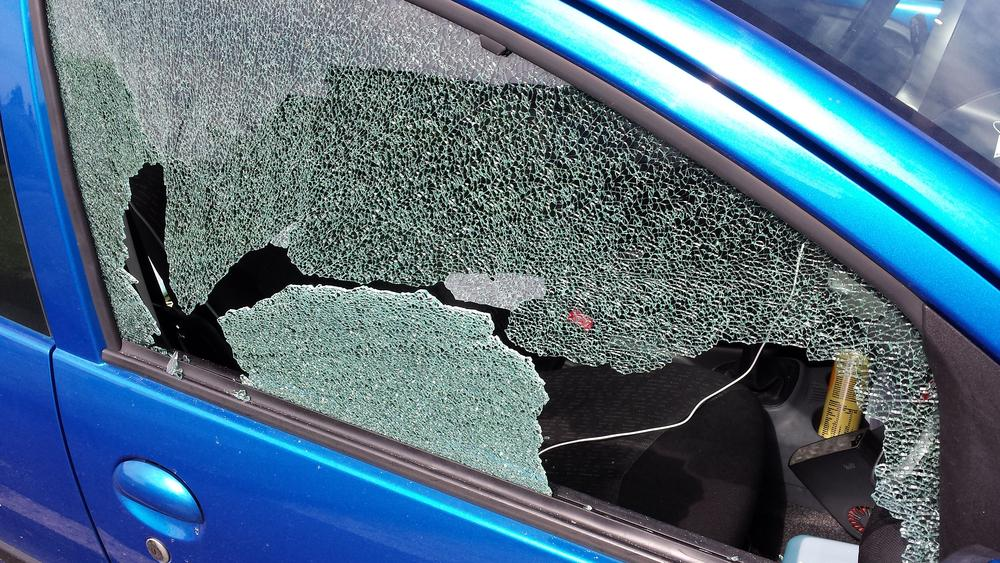glass shatter: (44, 0, 941, 563)
